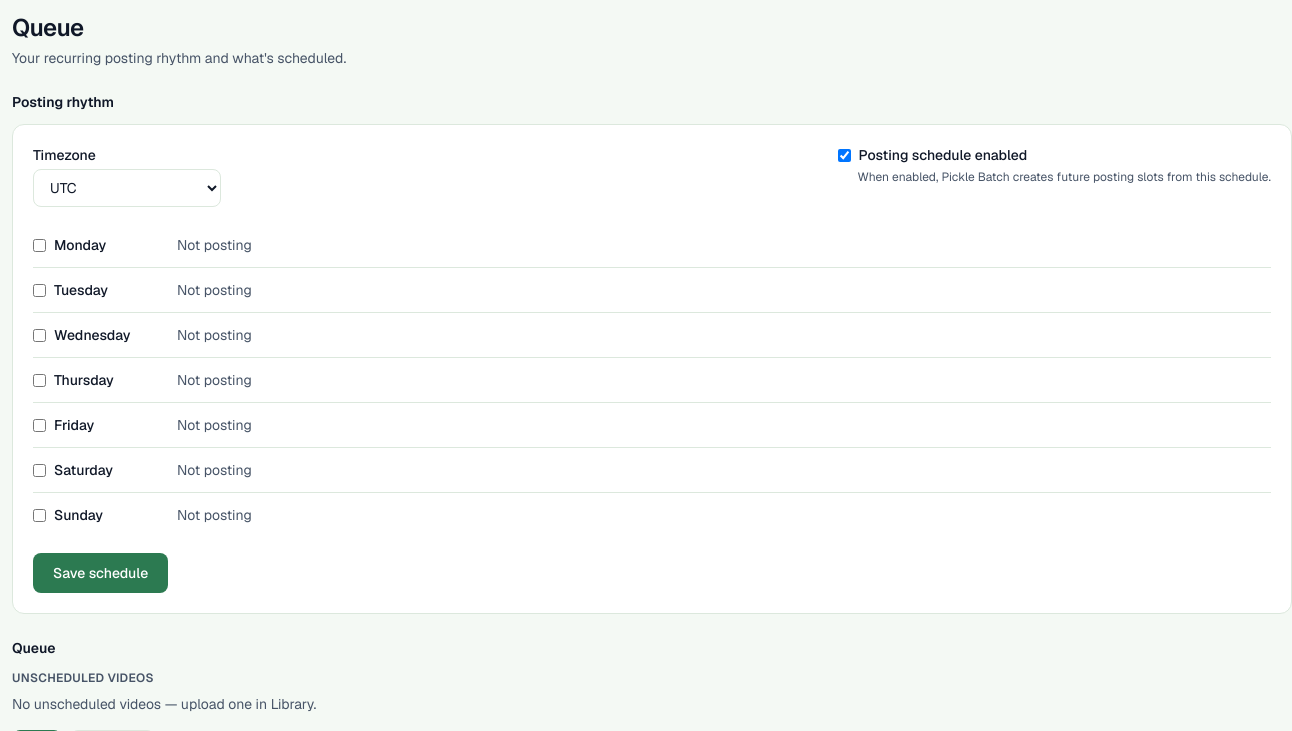
QueuePage — posting rhythm › opens the draft picker from Add posting time without committing its value
The width and height of the screenshot is (1292, 731).
Click the checkbox labelled "Monday" at (40,245), box [33, 238, 46, 252]
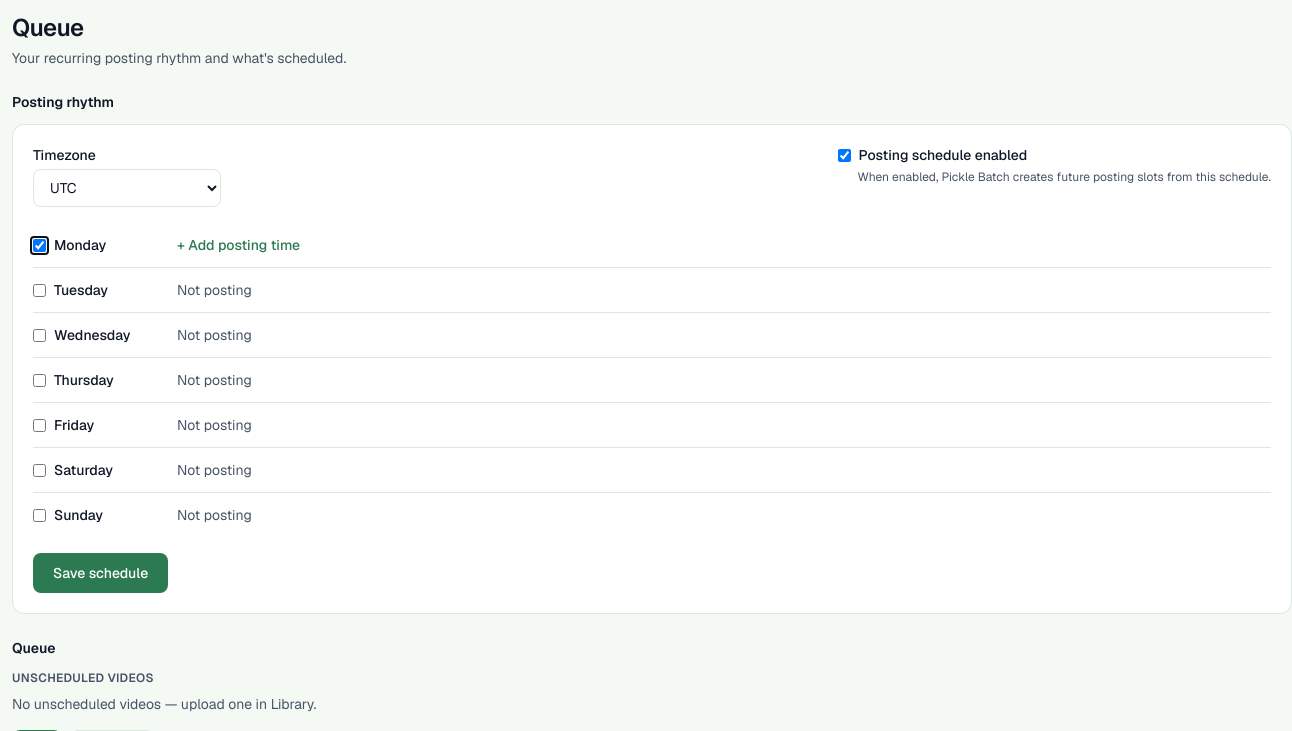
Click the button with aria-label "Add posting time for Monday" at (239,245), box [177, 235, 300, 255]
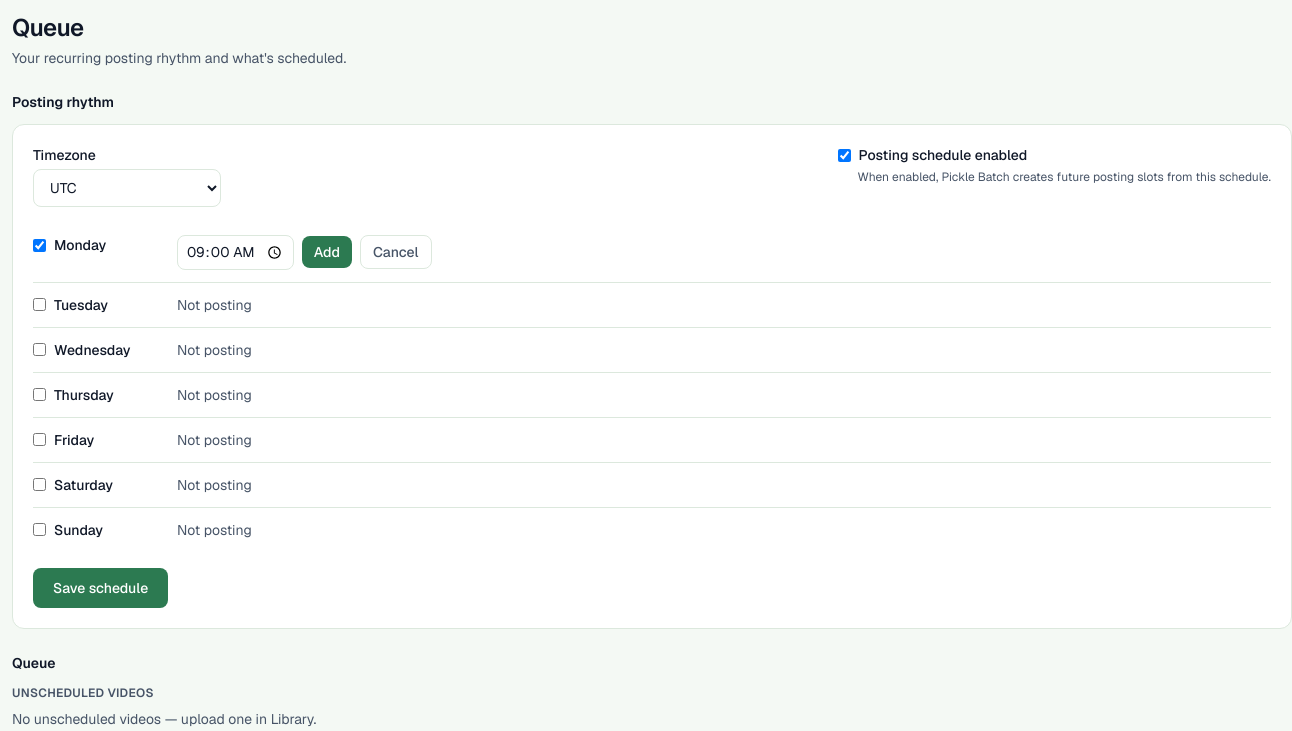
Now the time field named "New time for Monday" holds "09:00", box [177, 235, 294, 270]
